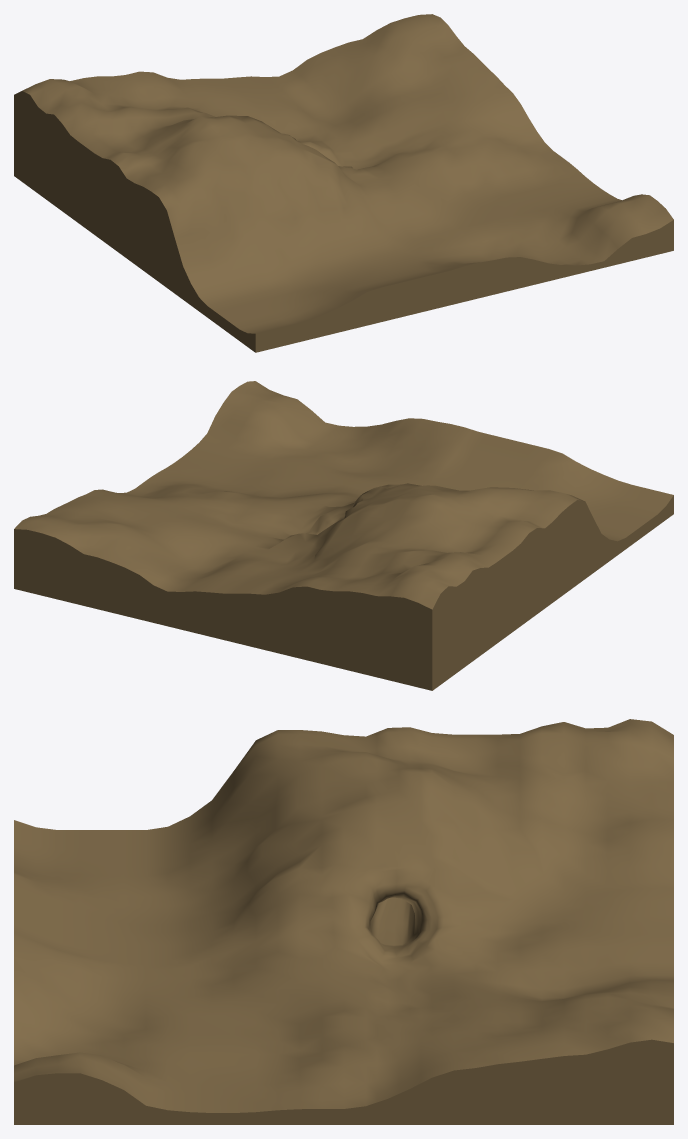
File: Terrain FBX v1.fbx
3 renders of one model, top to bottom at view 1: azimuth 30°, elevation 25°; view 2: azimuth 150°, elevation 25°; view 3: azimuth 270°, elevation 25°, orthographic. The views are drawn at different scales.
Visible parts, largest first — view 1: pPlane1; view 2: pPlane1; view 3: pPlane1.
Boxes of the visible parts, x1,y1,x2,y2 form: pPlane1: (14,14,673,352); pPlane1: (14,381,673,690); pPlane1: (14,719,673,1124).
Bounding box in the file's own units: 23.31 × 5.41 × 23.31.
